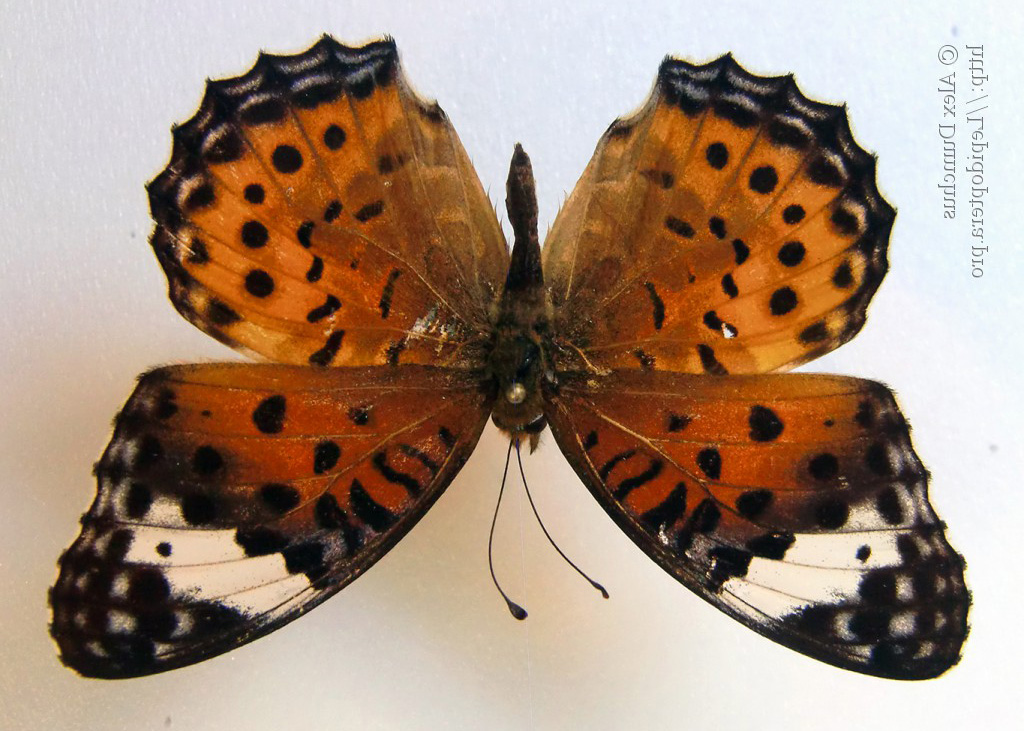Argyreus hyperbius: (44, 32, 978, 692)
butterfly: (42, 30, 976, 690)
